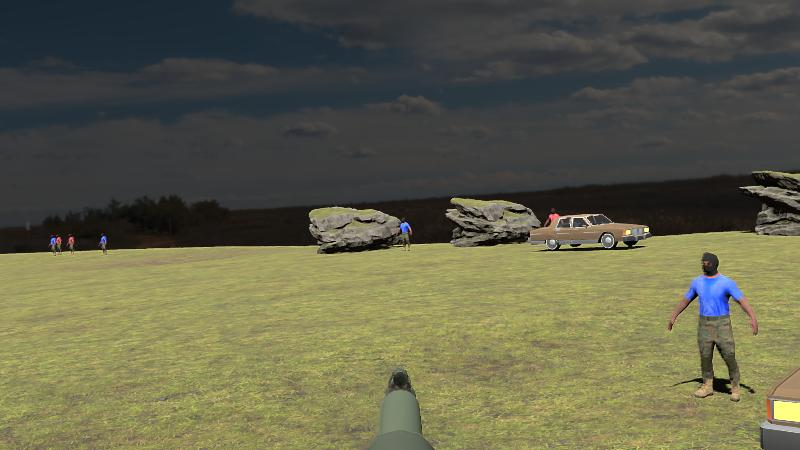Human: (668, 249, 757, 401), (398, 216, 412, 252)
car: (528, 213, 650, 251)
